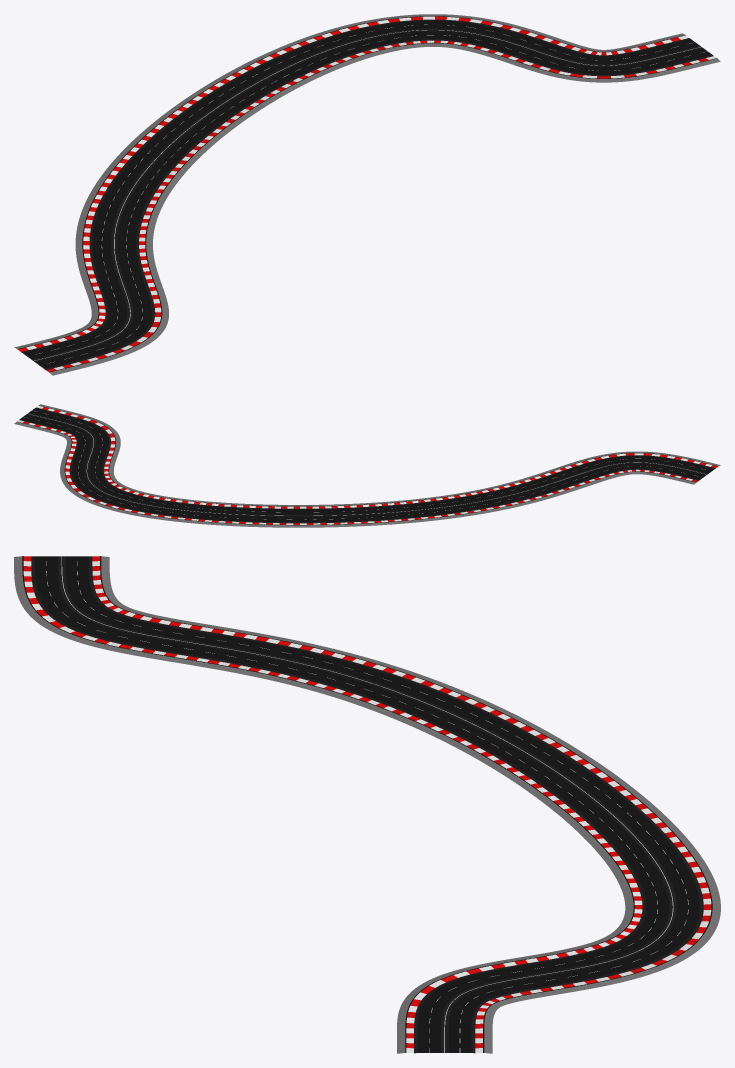
Rendered from S0.3c1-Cam.glb.
The picture shows the model from 3 angles, top to bottom: view 1: azimuth 30°, elevation 25°; view 2: azimuth 150°, elevation 25°; view 3: azimuth 270°, elevation 25°; orthographic projection. The views are drawn at different scales.
Visible parts, largest first — view 1: Grid; view 2: Grid; view 3: Grid.
Boxes of the visible parts, x1,y1,x2,y2 form: Grid: [14, 14, 720, 375]; Grid: [14, 404, 720, 527]; Grid: [14, 556, 720, 1053].
Size of the model in its own units: 307 by 0.31 by 185.
